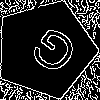G: (20, 24, 82, 85)
